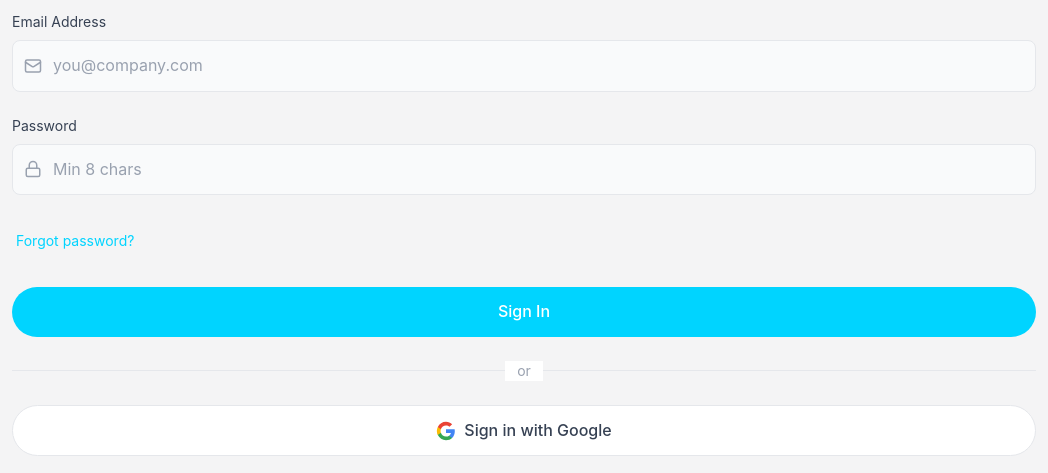
Test: LoginForm › toggles to forgot password mode
Click the button "Forgot password?". click: (75, 241)
box: [12,219,138,263]
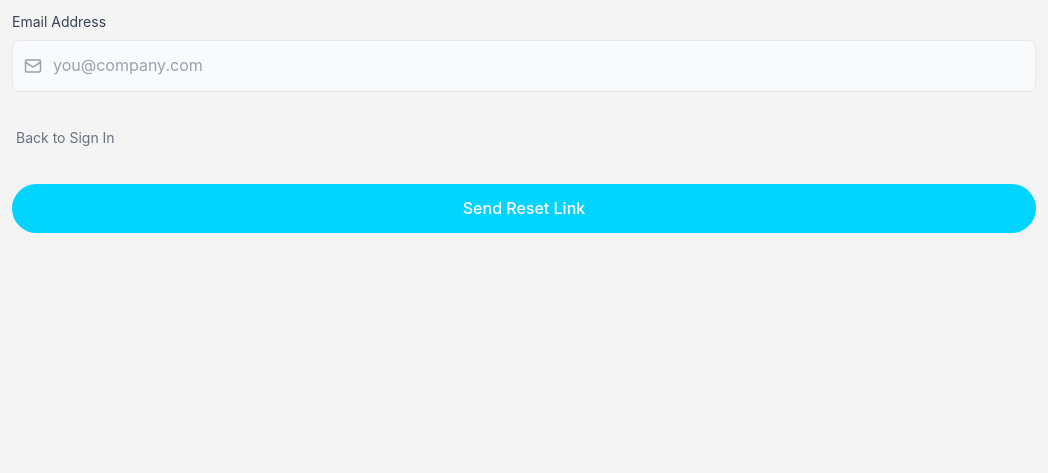
Expected: the button "Send Reset Link" is shown, [12,184,1036,233]
